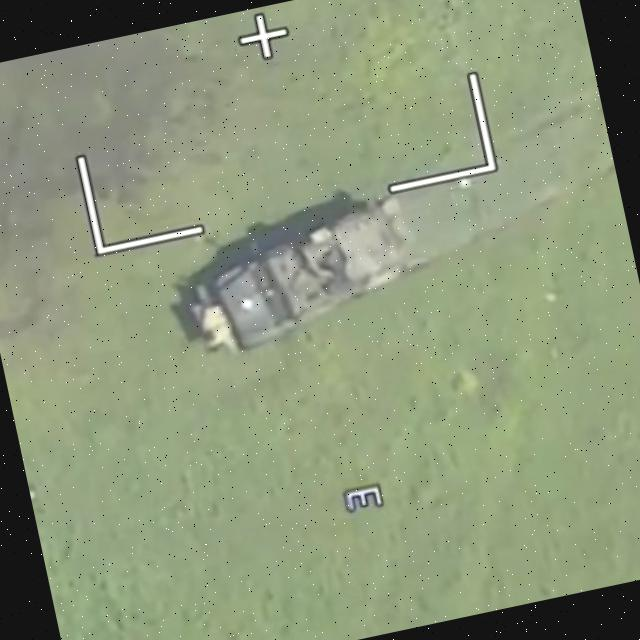Vehicle: (179, 195, 431, 371)
